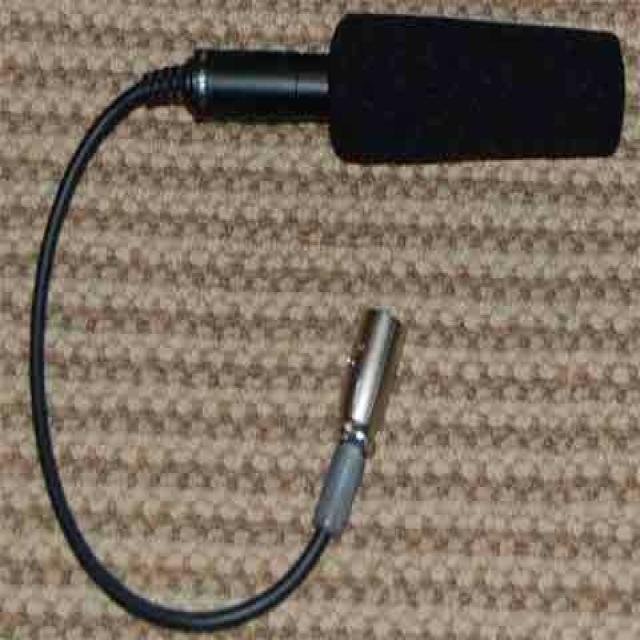microphone: (167, 12, 632, 170)
